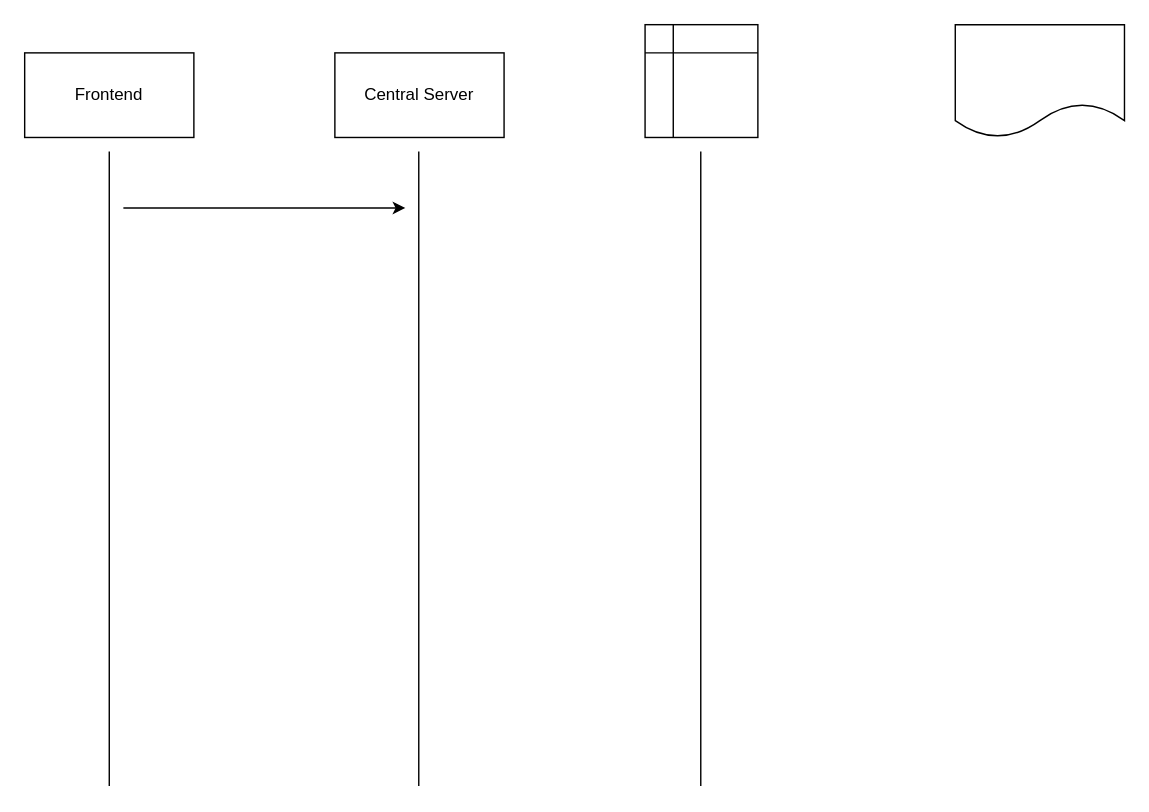
Some shapes in this 1149 by 812 pixel diagram are drawn without their labels. The centre of each missing label's shape, as x and y in pixels:
Logs: (x=1039, y=80)
Process store: (x=701, y=80)
